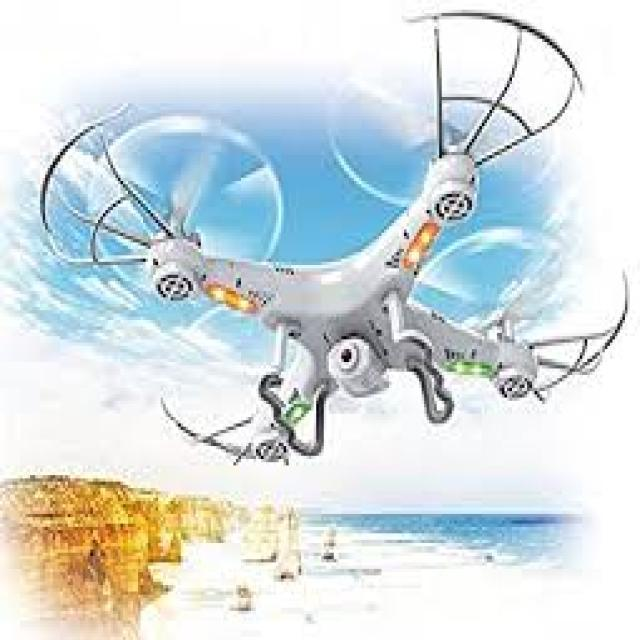drone: (30, 9, 640, 486)
